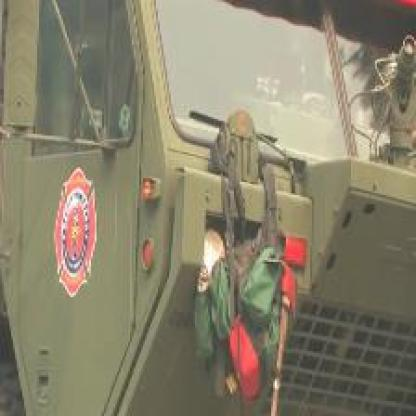other: (222, 217, 317, 398), (50, 160, 106, 296)
